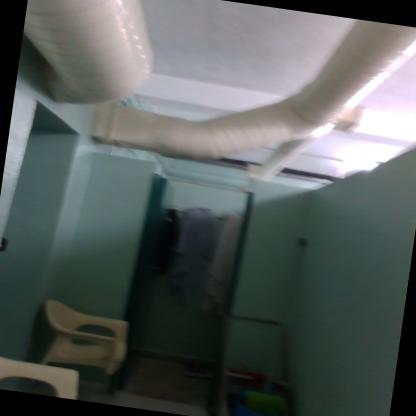open: (110, 150, 266, 393)
